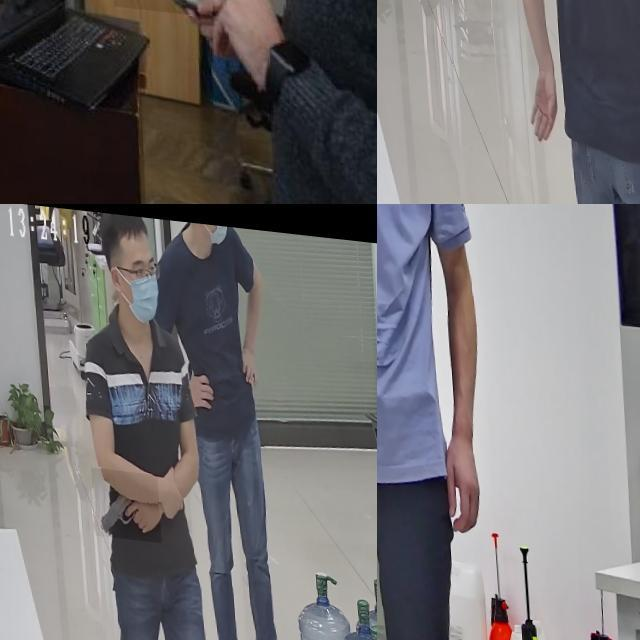-: (106, 0, 209, 29)
gun-knife-thesis - v11 Yolov5 augmented: (88, 463, 158, 537), (377, 204, 429, 295)
